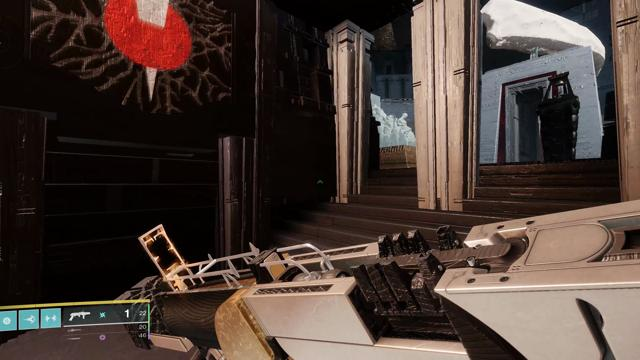kill: (30, 0, 234, 116)
